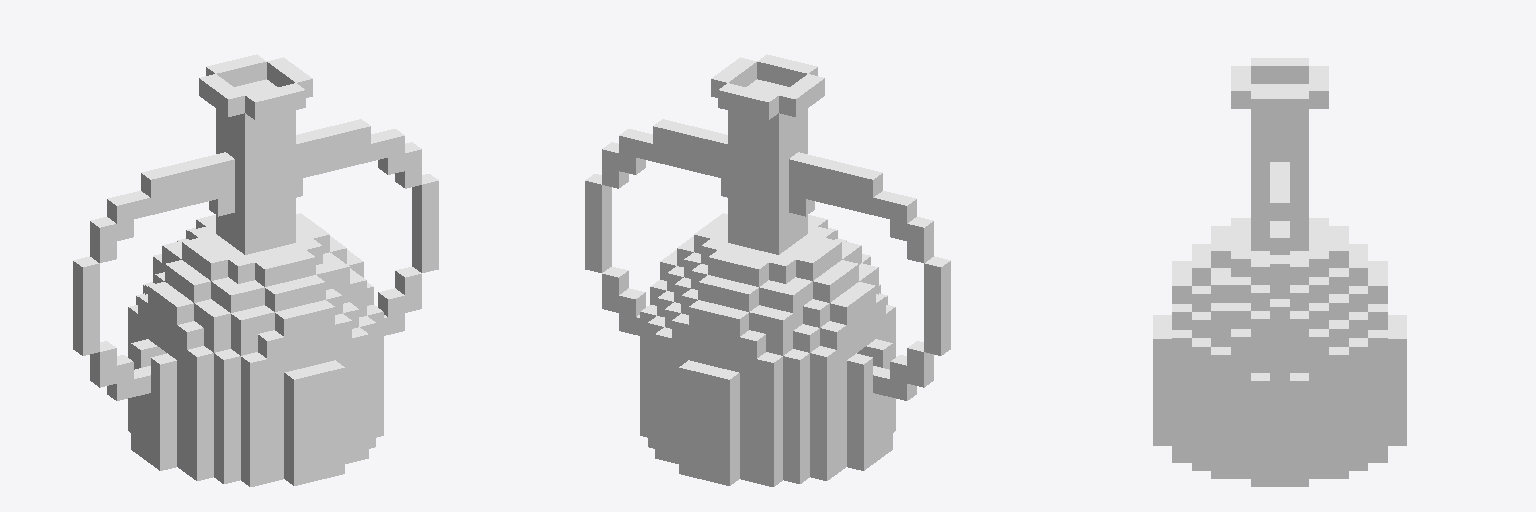
The model's file is antidoto_3.obj.
3 renders of one model, left to right at view 1: azimuth 30°, elevation 25°; view 2: azimuth 150°, elevation 25°; view 3: azimuth 270°, elevation 25°, orthographic.
Parts seen in each view (by area): view 1: object 1; view 2: object 1; view 3: object 1.
Part boxes in pixels (x1,y1,x2,y2): object 1: (73,54,438,486); object 1: (585,54,950,486); object 1: (1153,58,1406,486).
Bounding box in the file's own units: 2.1 × 2 × 1.3.